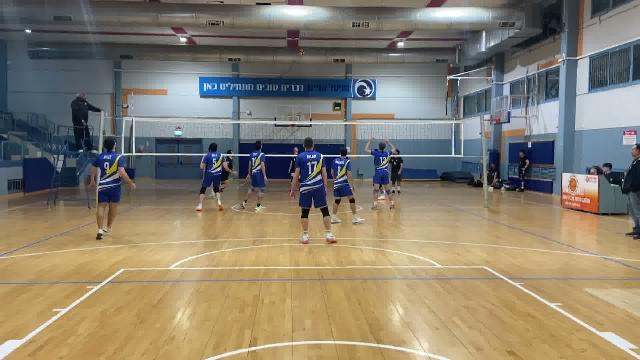ball: (297, 48, 306, 57)
